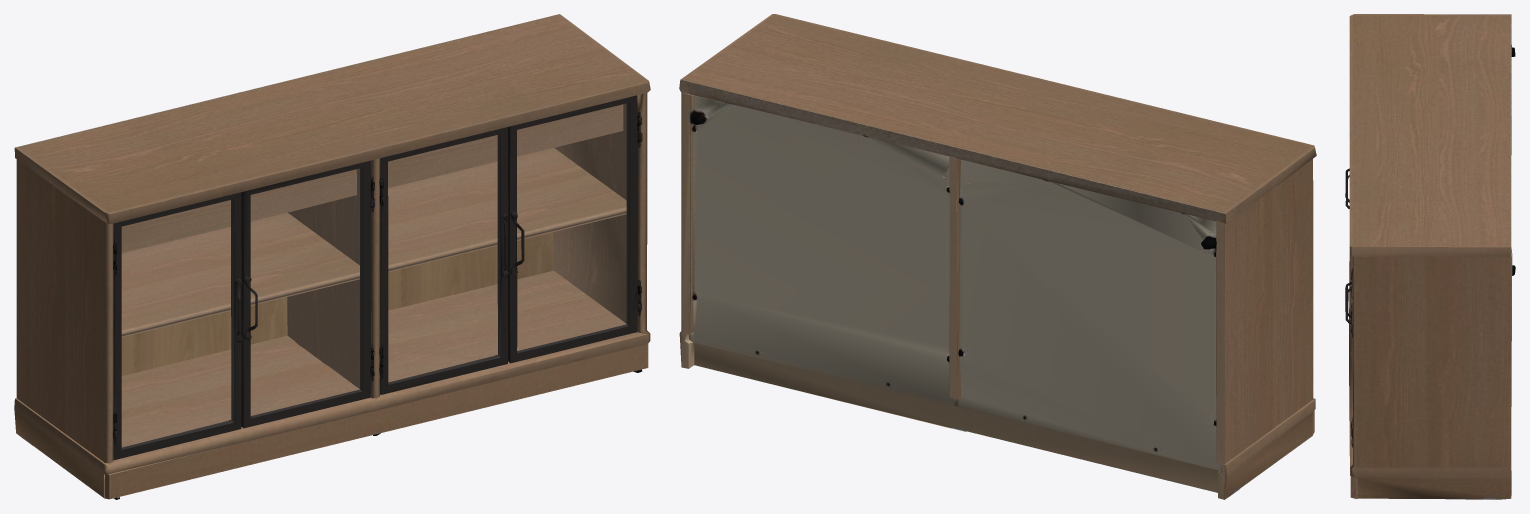
The model's file is 3odyt31nypg9.glb.
The picture shows the model from 3 angles, left to right: view 1: azimuth 30°, elevation 25°; view 2: azimuth 150°, elevation 25°; view 3: azimuth 270°, elevation 25°; orthographic projection. The views are drawn at different scales.
Parts seen in each view (by area): view 1: ASY_ART_90466546_S01_NV01, ASY_LPT05_90466546_S01_NV01, ASY_LPT07_90466546_S01_NV01, ASY_LPT08_90466546_S01_NV01, ASY_LPT11_90466546_S01_NV01, ASY_LPT06_90466546_S01_NV01, ASY_LPT04_90466546_S01_NV01, ASY_LPT02_90466546_S01_NV01, ASY_LPT01_90466546_S01_NV01, ASY_LPT03_90466546_S01_NV01, ASY_LPT10_90466546_S01_NV01, ASY_LPT09_90466546_S01_NV01; view 2: ASY_ART_90466546_S01_NV01, ASY_LPT05_90466546_S01_NV01, ASY_LPT06_90466546_S01_NV01; view 3: ASY_ART_90466546_S01_NV01.
Part boxes in pixels (bbox=[...]): ASY_ART_90466546_S01_NV01: bbox=[14, 14, 650, 499]; ASY_LPT05_90466546_S01_NV01: bbox=[16, 159, 113, 463]; ASY_LPT07_90466546_S01_NV01: bbox=[121, 212, 359, 337]; ASY_LPT08_90466546_S01_NV01: bbox=[388, 148, 626, 272]; ASY_LPT11_90466546_S01_NV01: bbox=[104, 344, 648, 499]; ASY_LPT06_90466546_S01_NV01: bbox=[287, 158, 380, 398]; ASY_LPT04_90466546_S01_NV01: bbox=[508, 95, 641, 363]; ASY_LPT02_90466546_S01_NV01: bbox=[241, 160, 373, 428]; ASY_LPT01_90466546_S01_NV01: bbox=[113, 192, 242, 459]; ASY_LPT03_90466546_S01_NV01: bbox=[380, 127, 508, 394]; ASY_LPT10_90466546_S01_NV01: bbox=[388, 104, 623, 188]; ASY_LPT09_90466546_S01_NV01: bbox=[121, 169, 356, 253]; ASY_ART_90466546_S01_NV01: bbox=[679, 14, 1316, 499]; ASY_LPT05_90466546_S01_NV01: bbox=[1216, 159, 1313, 464]; ASY_LPT06_90466546_S01_NV01: bbox=[949, 156, 960, 399]; ASY_ART_90466546_S01_NV01: bbox=[1349, 14, 1515, 499].
Bounding box in the file's own units: 1.61 × 0.8164 × 0.4965.
Materials: 18 (18 with a texture image).
